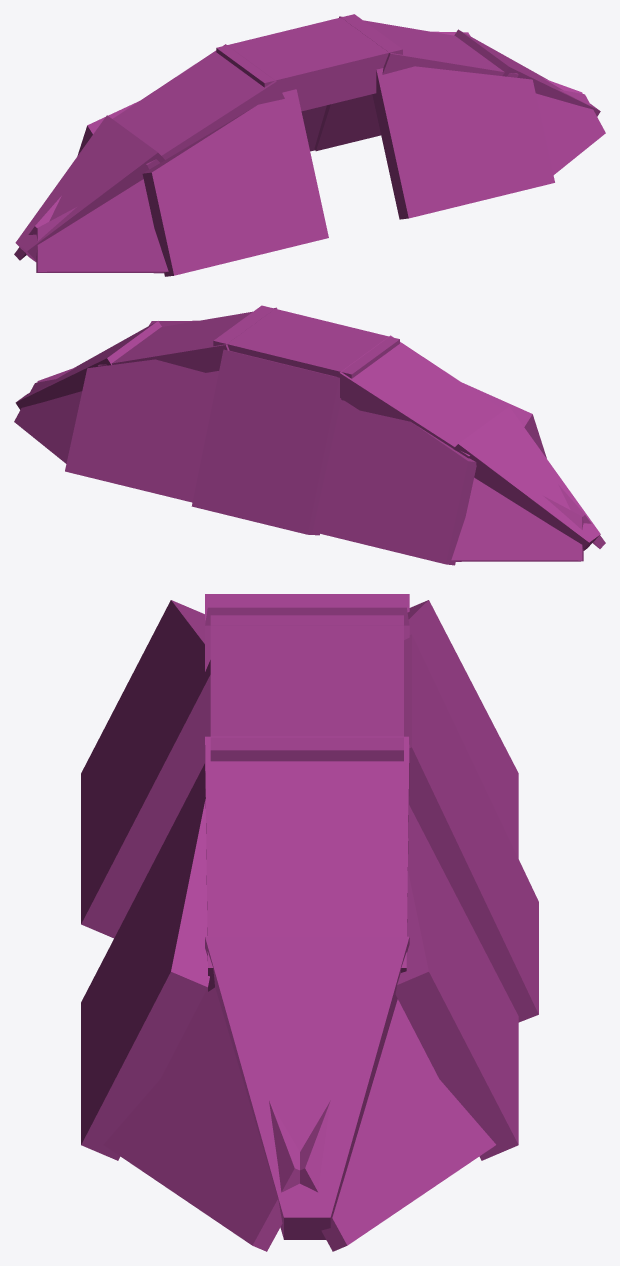
Rendered from SM_Bld_Tent_Medium_02_Collision.fbx.
The picture shows the model from 3 angles, top to bottom: view 1: azimuth 30°, elevation 25°; view 2: azimuth 150°, elevation 25°; view 3: azimuth 270°, elevation 25°; orthographic projection. The views are drawn at different scales.
Parts seen in each view (by area): view 1: SM_Bld_Tent_Medium_02_Collision; view 2: SM_Bld_Tent_Medium_02_Collision; view 3: SM_Bld_Tent_Medium_02_Collision.
Boxes of the visible parts, left/top/right/bottom form: SM_Bld_Tent_Medium_02_Collision: left=14, top=14, right=605, bottom=276; SM_Bld_Tent_Medium_02_Collision: left=14, top=305, right=605, bottom=565; SM_Bld_Tent_Medium_02_Collision: left=81, top=594, right=538, bottom=1251.
Size of the model in its own units: 1278 by 315 by 441.
